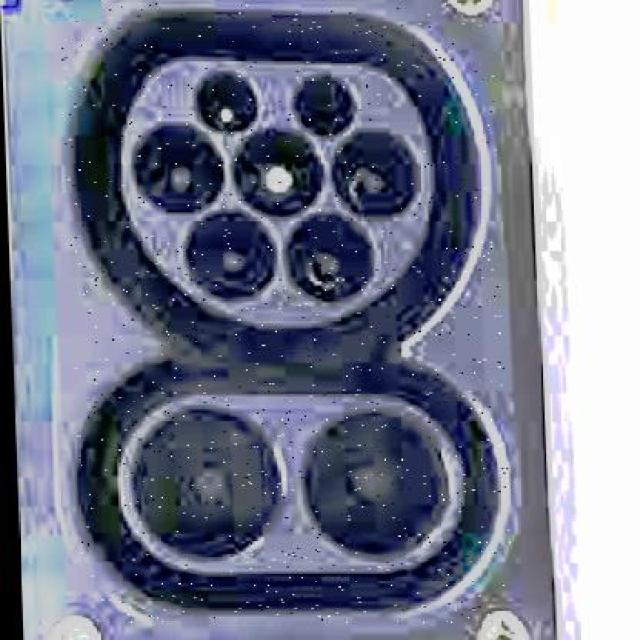CCS2: (69, 16, 548, 636)
